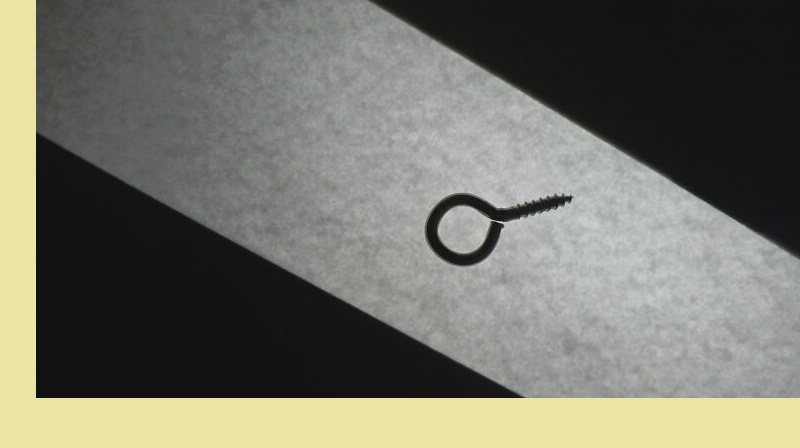O001: (423, 188, 580, 269)
